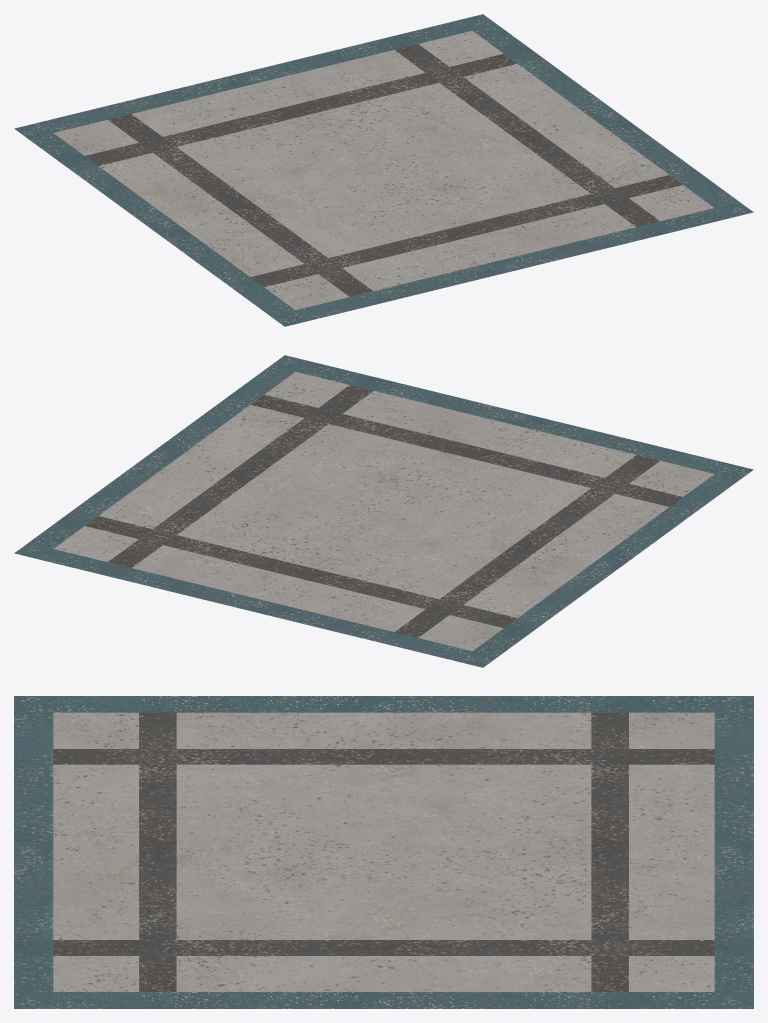
File: HH_Flooring_Concrete_4x4m_04.fbx
3 views of the same model, one above another, from view 1: azimuth 30°, elevation 25°; view 2: azimuth 150°, elevation 25°; view 3: azimuth 270°, elevation 25° (orthographic). The views are drawn at different scales.
Parts seen in each view (by area): view 1: HH_Flooring_Concrete_4x4m_04; view 2: HH_Flooring_Concrete_4x4m_04; view 3: HH_Flooring_Concrete_4x4m_04.
Boxes of the visible parts, x1=… form: HH_Flooring_Concrete_4x4m_04: x1=14, y1=14, x2=753, y2=326; HH_Flooring_Concrete_4x4m_04: x1=14, y1=355, x2=753, y2=667; HH_Flooring_Concrete_4x4m_04: x1=14, y1=696, x2=753, y2=1008.
Size of the model in its own units: 400 by 0 by 400.
